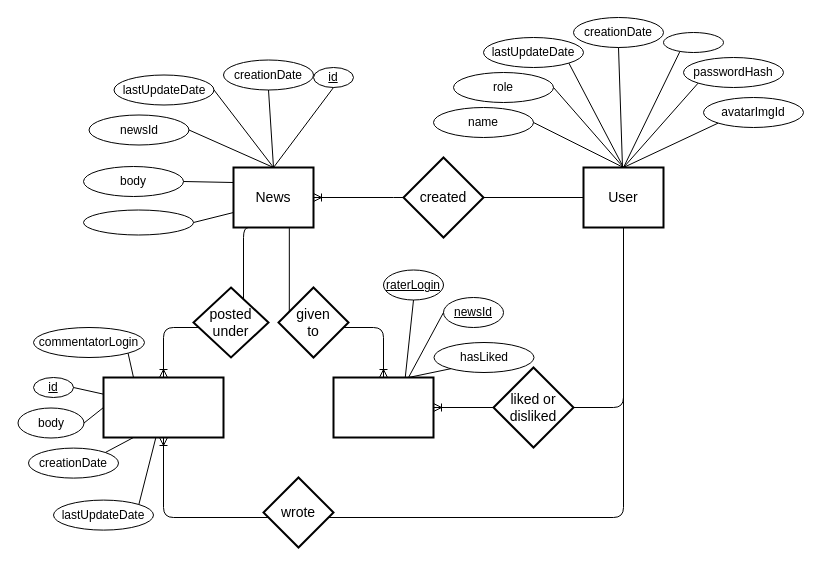
Image size: 821x566. Some labels were removed from this diagram. The centre of each missing label's shape, as x and y in pixels:
"login" goes at pixel 693 42.
"NewsComment" goes at pixel 163 407.
"NewsRating" goes at pixel 383 407.
"promoImgId" goes at pixel 138 222.
